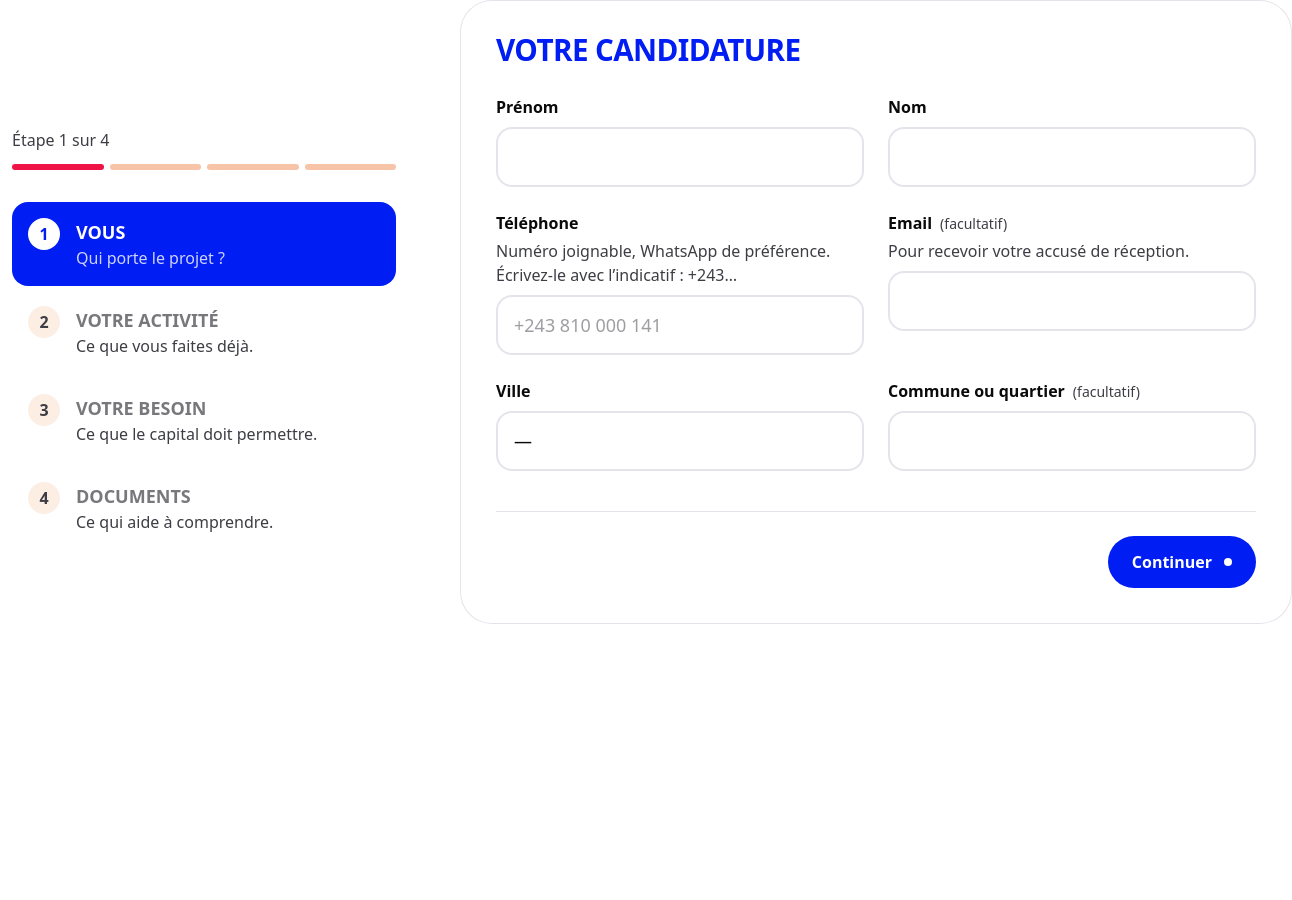
Scenario: ApplicationForm › demande d’écrire la ville quand on choisit « Autre »
Type "Joseph" into the field labelled "Prénom" at (680, 157), box [496,127,864,187]
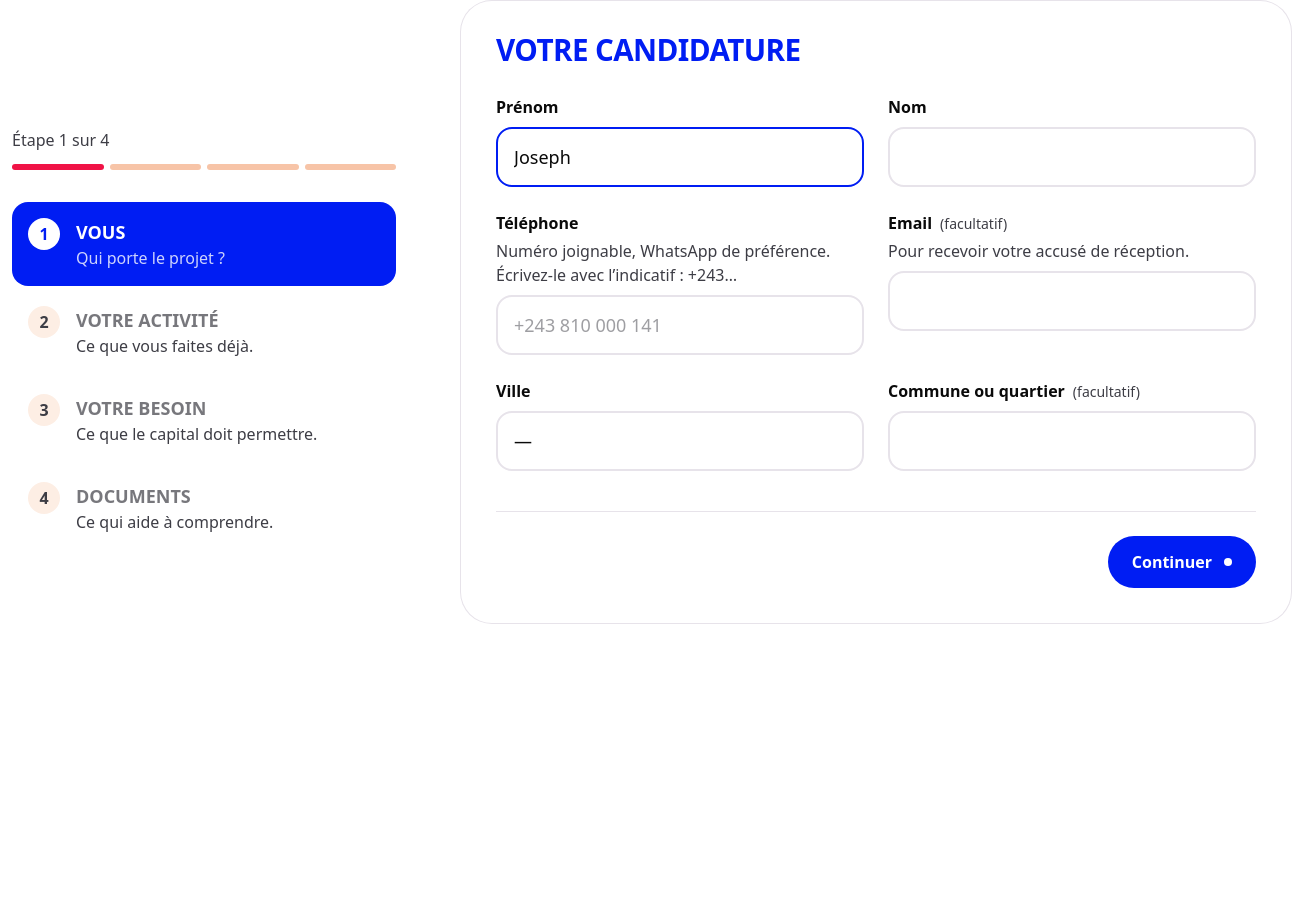
Type "Mbala" into the field labelled "Nom" at (1072, 157), box [888,127,1256,187]
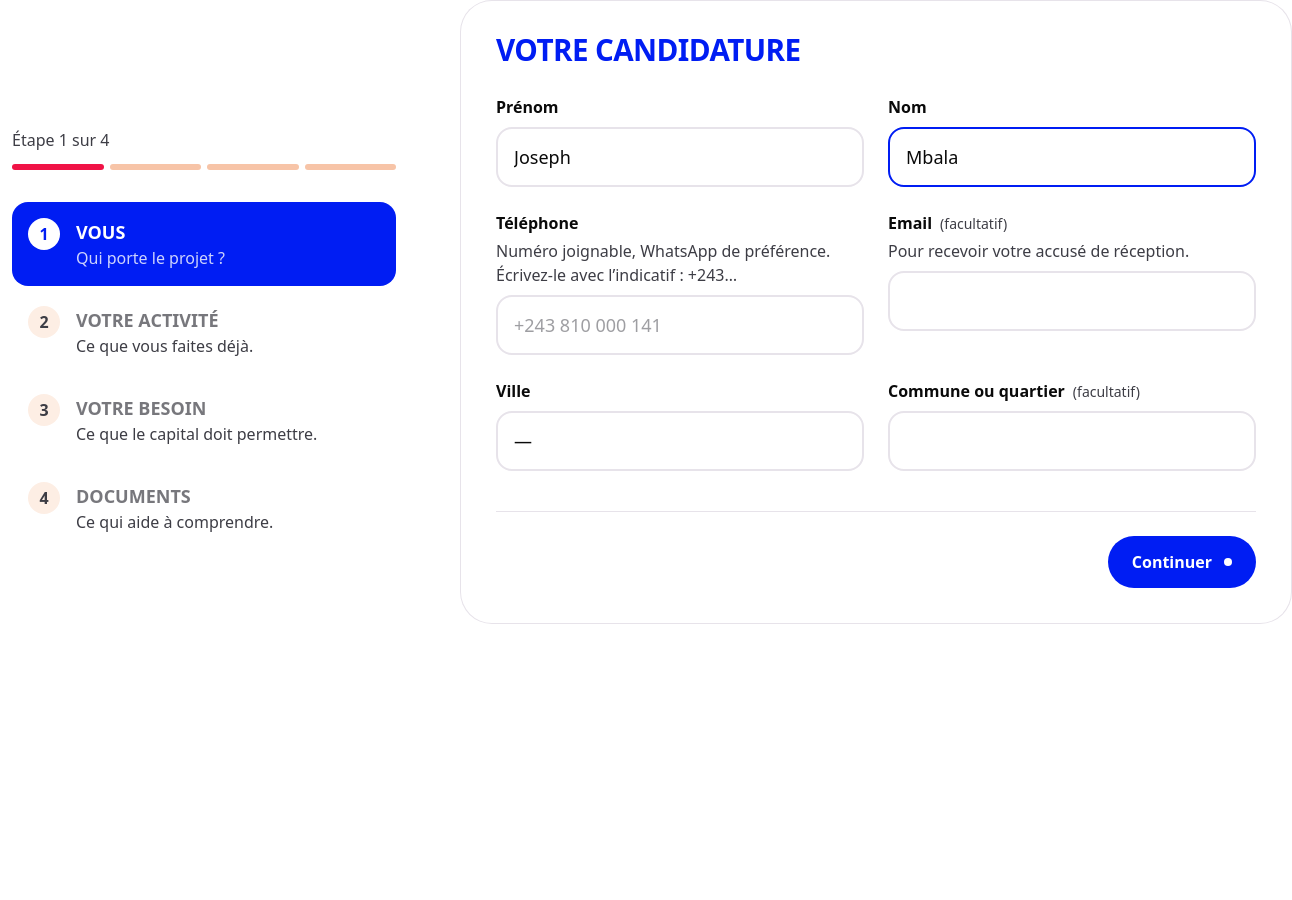
Type "+243 810 000 000" into the field labelled "Téléphone" at (680, 325), box [496,295,864,355]
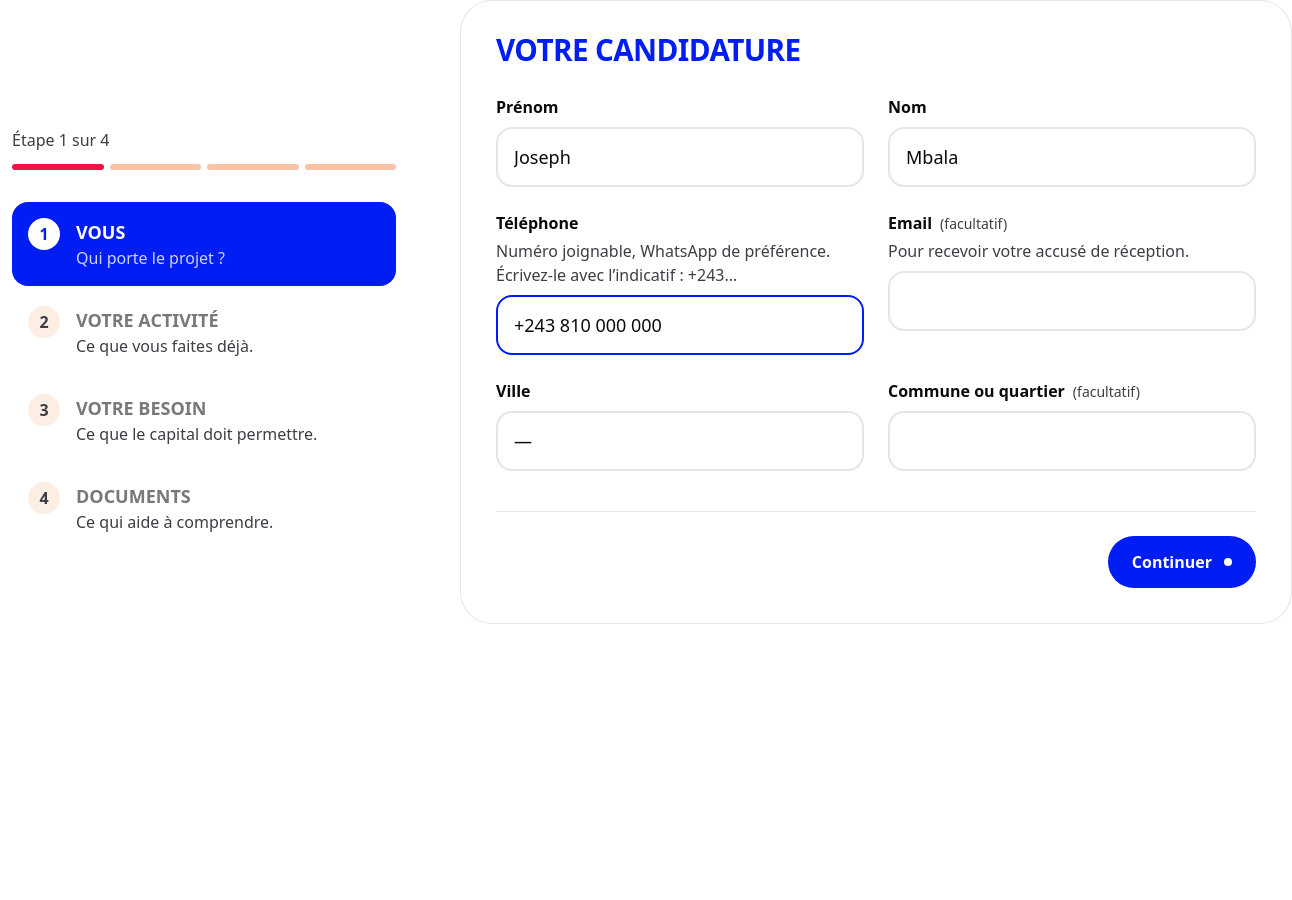
Select "Autre ville" in the dropdown labelled "Ville" at (680, 441), box [496,411,864,471]
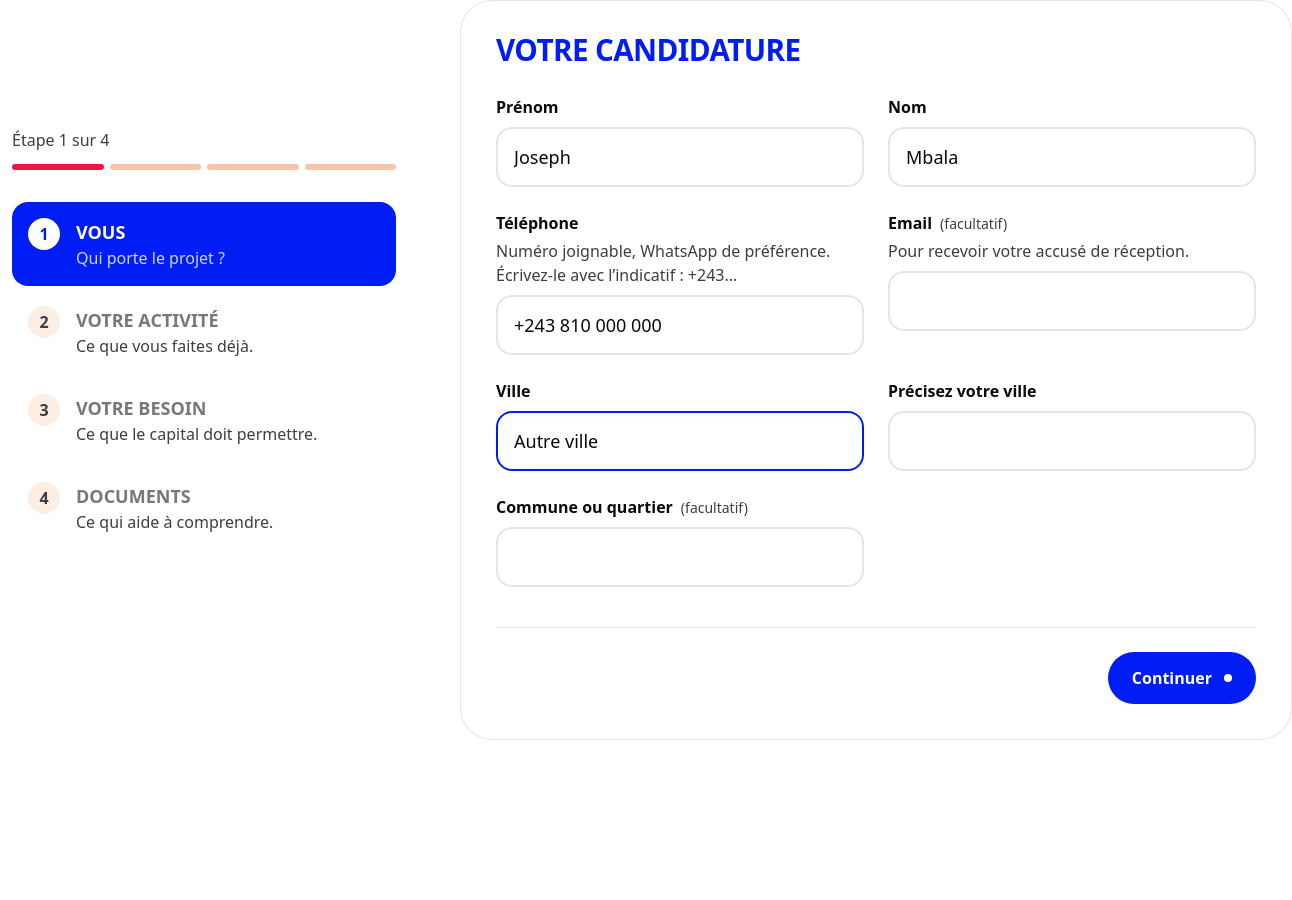
Click the button "Continuer" at (1182, 678), box [1108,652,1256,704]
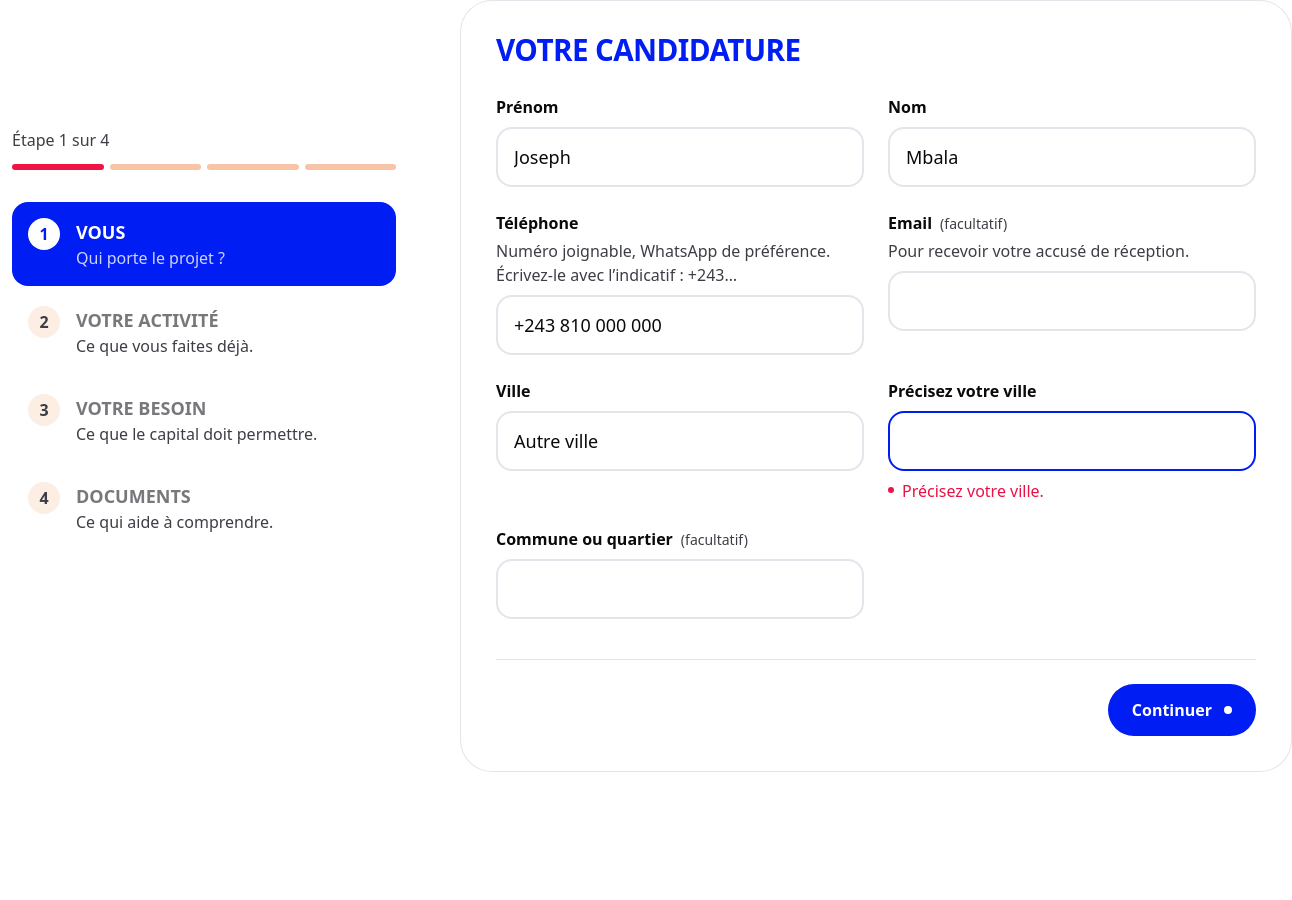
Expected: the text "Précisez votre ville." is shown, [888,480,1044,502]
